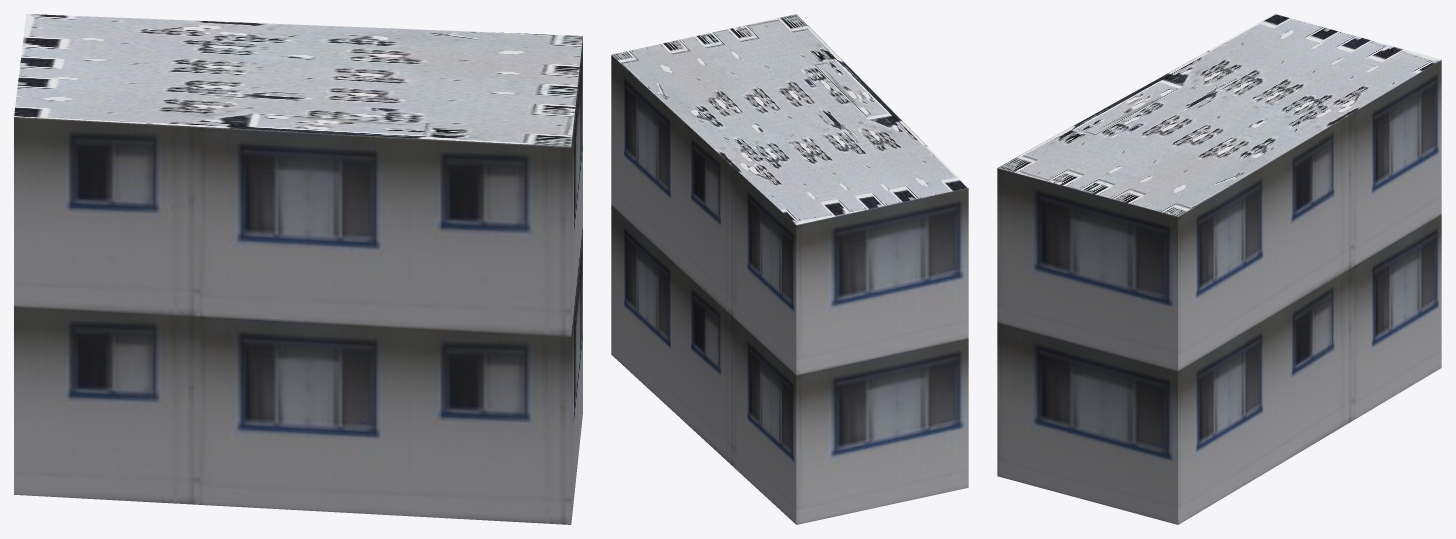
File: ResTex__4418.fbx
3 renders of one model, left to right at view 1: azimuth 30°, elevation 25°; view 2: azimuth 150°, elevation 25°; view 3: azimuth 270°, elevation 25°, orthographic. The views are drawn at different scales.
Parts seen in each view (by area): view 1: CityEngineMaterial_9_m, CityEngineMaterial_4_m; view 2: CityEngineMaterial_9_m, CityEngineMaterial_4_m; view 3: CityEngineMaterial_9_m, CityEngineMaterial_4_m.
Part boxes in pixels (x1,y1,x2,y2): CityEngineMaterial_9_m: (14,37,582,524); CityEngineMaterial_4_m: (14,14,582,146); CityEngineMaterial_9_m: (611,55,968,524); CityEngineMaterial_4_m: (611,14,968,224); CityEngineMaterial_9_m: (997,60,1441,524); CityEngineMaterial_4_m: (998,14,1441,216).
Bounding box in the file's own units: 8.47 × 6 × 7.84.
Materials: 2 (2 with a texture image).
